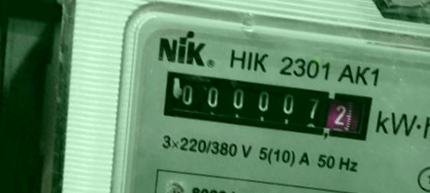0: (178, 80, 195, 106), (255, 88, 272, 113), (204, 84, 220, 108), (230, 86, 246, 110), (280, 91, 296, 115)
2: (332, 102, 348, 127)
7: (305, 94, 320, 120)
screen: (149, 56, 383, 153)
